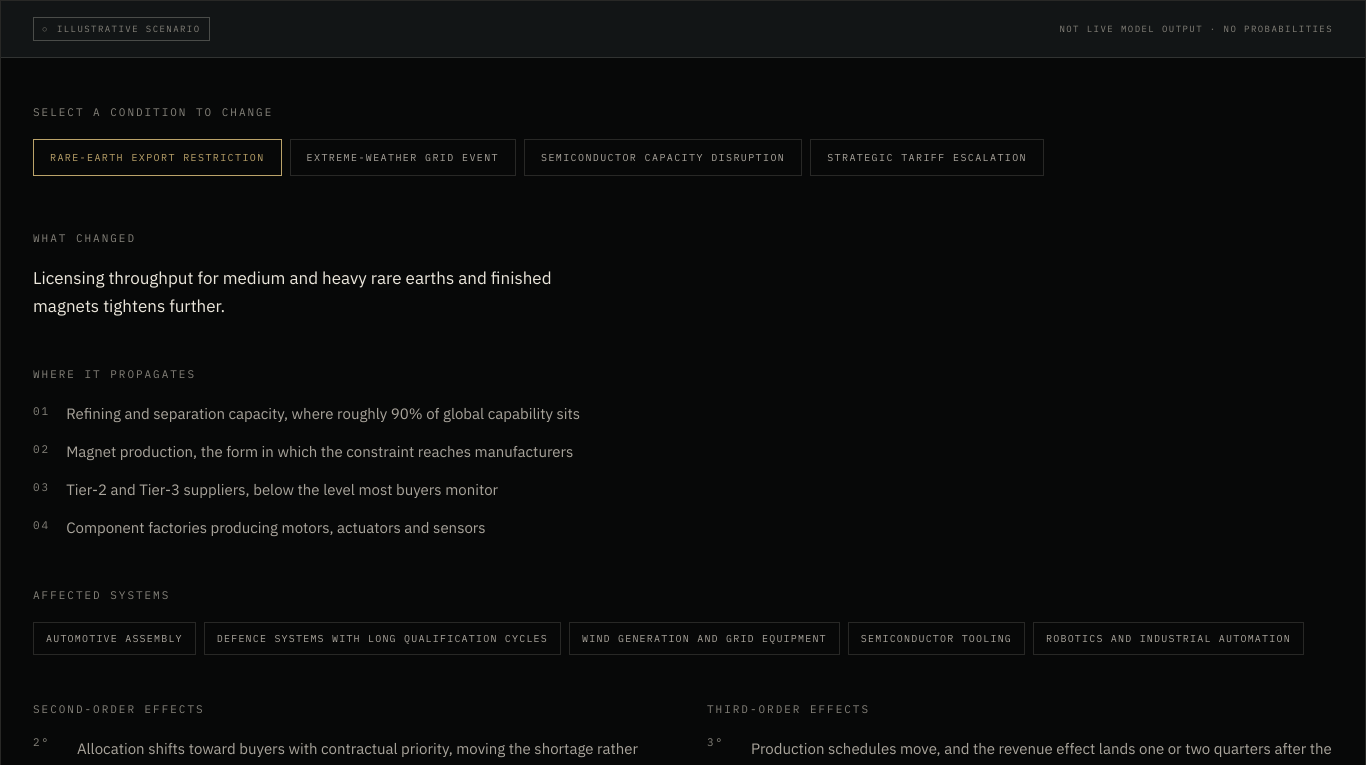
it: WhatBreaksNext › swaps scenarios and reports the selected one
The image size is (1366, 765).
Click the button "Extreme-weather grid event": coordinates (403, 157) [290, 139, 516, 176]
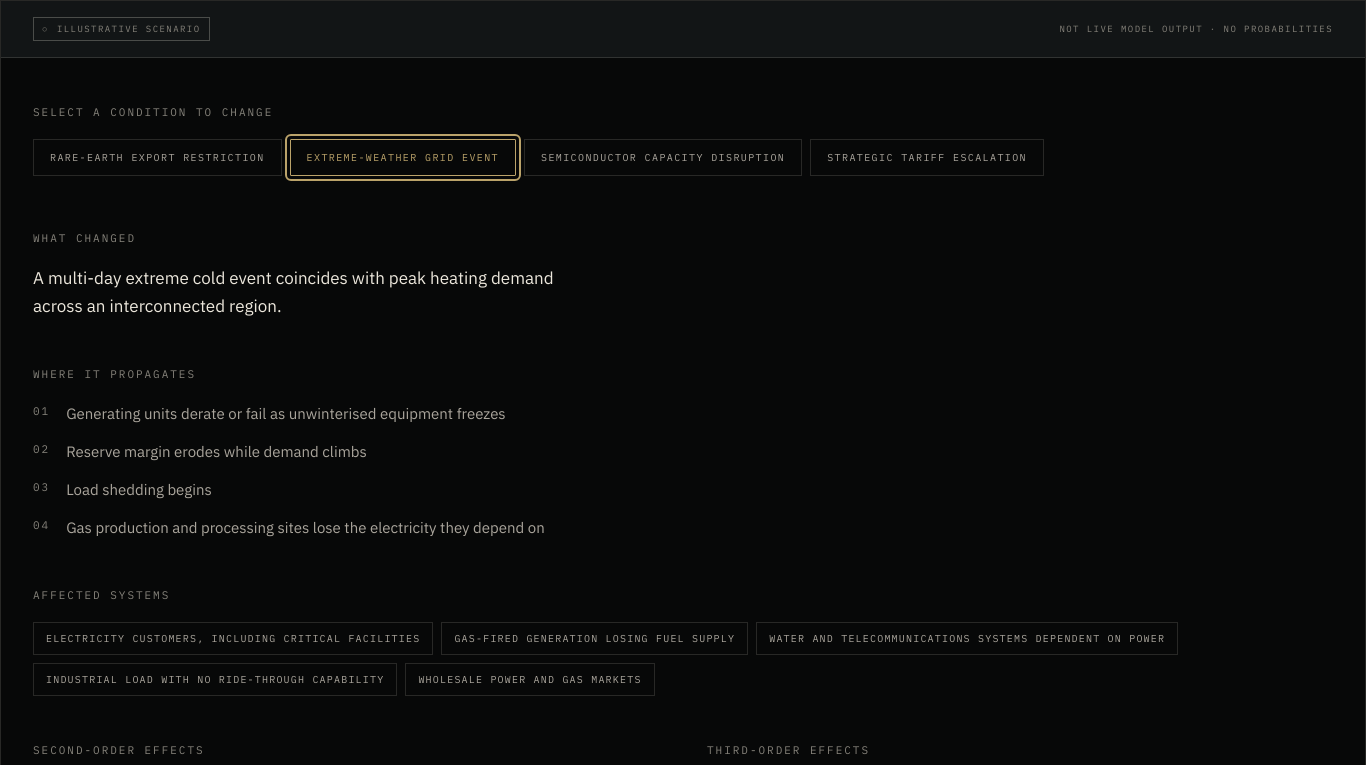
Result: the text "extreme cold event" is shown at [33, 267, 554, 316]
